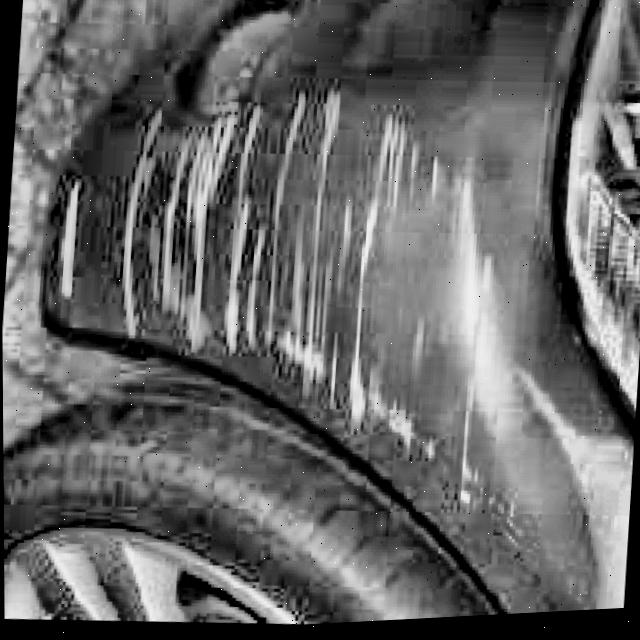bumper_scratch: (35, 74, 511, 524)
